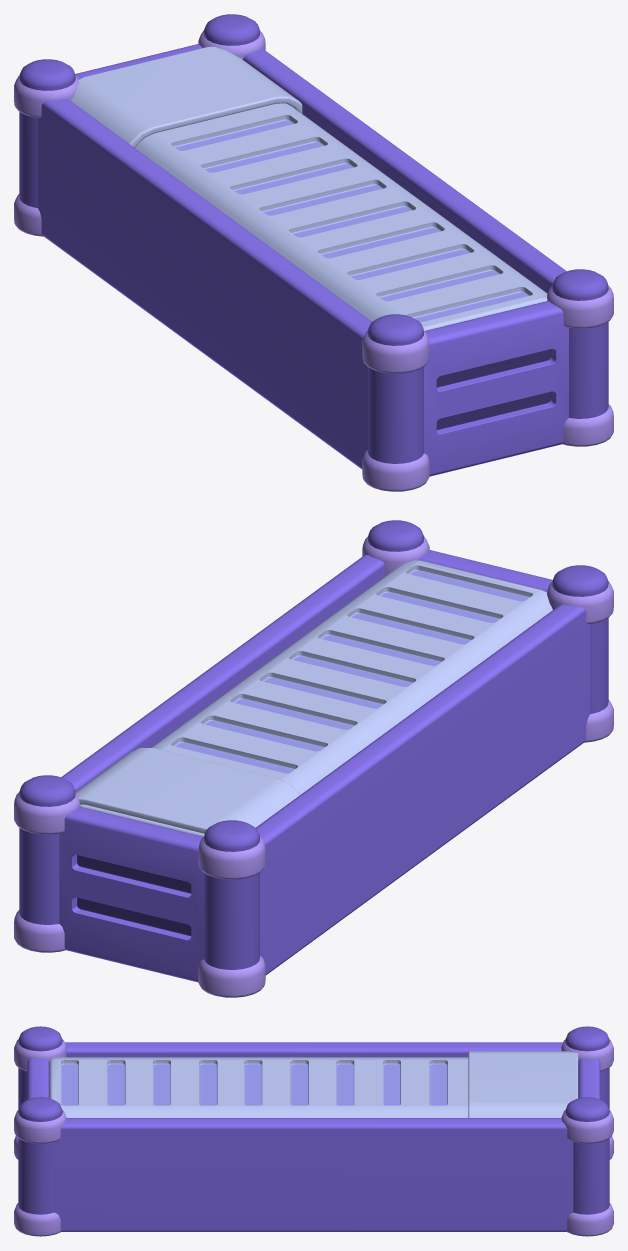
The model's file is jizhuangxiang(1).fbx.
3 views of the same model, one above another, from view 1: azimuth 30°, elevation 25°; view 2: azimuth 150°, elevation 25°; view 3: azimuth 270°, elevation 25° (orthographic). The views are drawn at different scales.
Visible parts, largest first — view 1: polySurface13, polySurface40, polySurface42, polySurface48, polySurface18, polySurface43; view 2: polySurface13, polySurface40, polySurface42, polySurface43, polySurface18, polySurface48; view 3: polySurface13, polySurface40, polySurface48, polySurface43, polySurface18, polySurface42.
Boxes of the visible parts, bbox=[...] form: polySurface13: bbox=[38, 48, 566, 469]; polySurface40: bbox=[135, 103, 547, 330]; polySurface42: bbox=[75, 44, 568, 476]; polySurface48: bbox=[362, 269, 613, 491]; polySurface18: bbox=[70, 46, 302, 147]; polySurface43: bbox=[14, 14, 265, 236]; polySurface13: bbox=[61, 554, 589, 975]; polySurface40: bbox=[80, 560, 552, 836]; polySurface42: bbox=[59, 550, 552, 982]; polySurface43: bbox=[14, 775, 265, 997]; polySurface18: bbox=[76, 747, 300, 833]; polySurface48: bbox=[362, 520, 613, 742]; polySurface13: bbox=[54, 1042, 573, 1231]; polySurface40: bbox=[49, 1057, 468, 1117]; polySurface48: bbox=[14, 1026, 66, 1236]; polySurface43: bbox=[561, 1026, 613, 1236]; polySurface18: bbox=[468, 1051, 578, 1117]; polySurface42: bbox=[27, 1058, 600, 1099].
Size of the model in its own units: 89.32 by 55.27 by 243.
